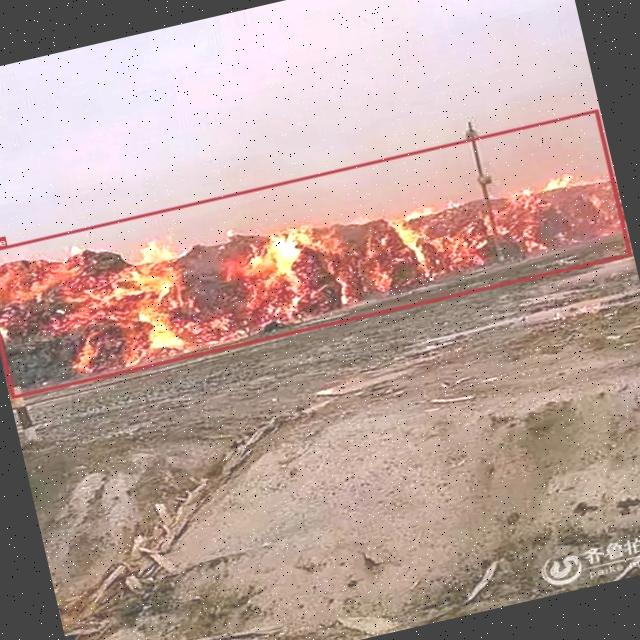fire: (0, 108, 630, 397)
